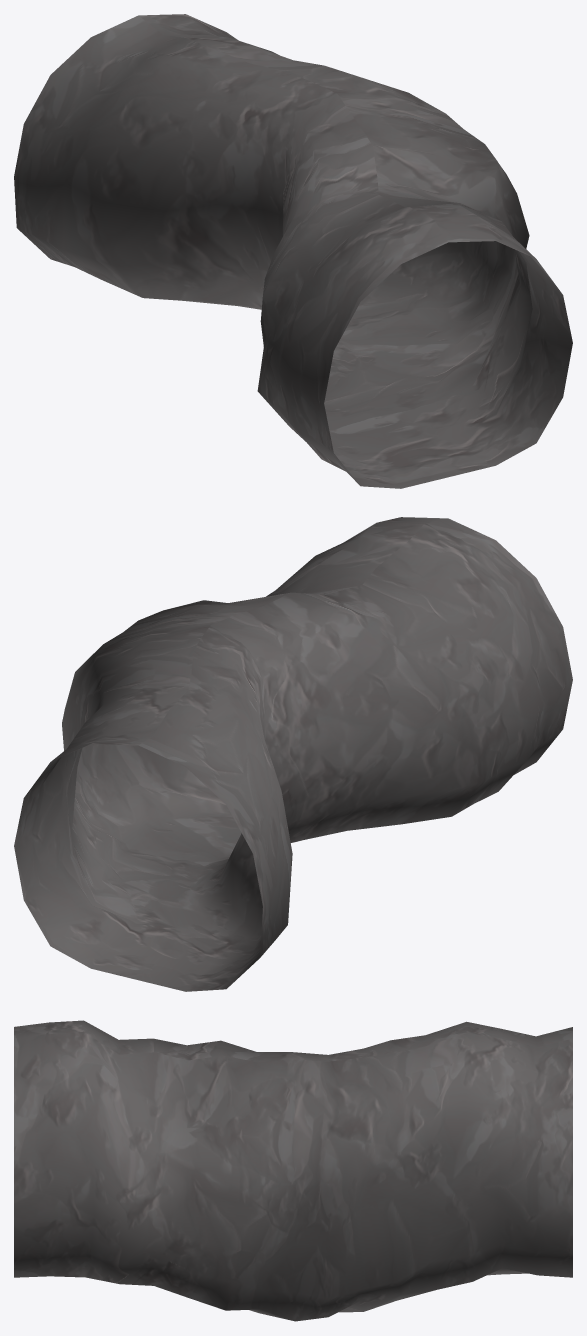
The model's file is MOD_CurvyTun.fbx.
3 views of the same model, one above another, from view 1: azimuth 30°, elevation 25°; view 2: azimuth 150°, elevation 25°; view 3: azimuth 270°, elevation 25° (orthographic). The views are drawn at different scales.
Parts seen in each view (by area): view 1: MOD_Curvy_Tun; view 2: MOD_Curvy_Tun; view 3: MOD_Curvy_Tun.
Part boxes in pixels (x1,y1,x2,y2): MOD_Curvy_Tun: [14, 14, 572, 488]; MOD_Curvy_Tun: [14, 517, 572, 991]; MOD_Curvy_Tun: [14, 1020, 572, 1321].
Bounding box in the file's own units: 5.35 × 3.7 × 8.48.
